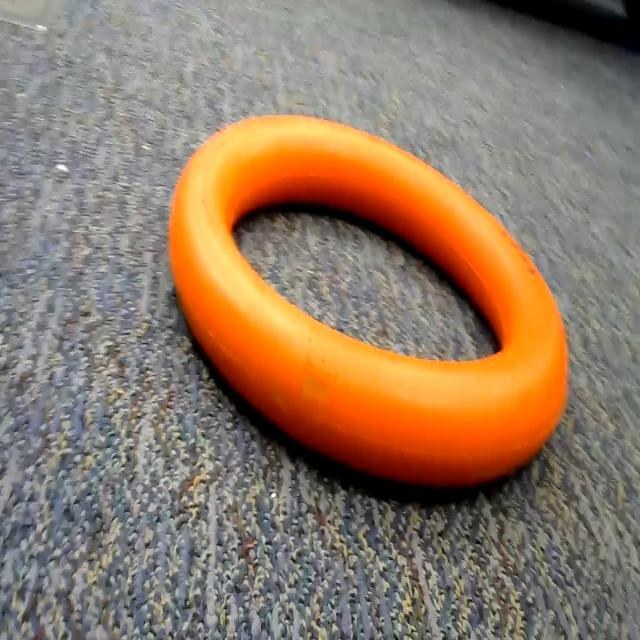note: (160, 92, 576, 510)
